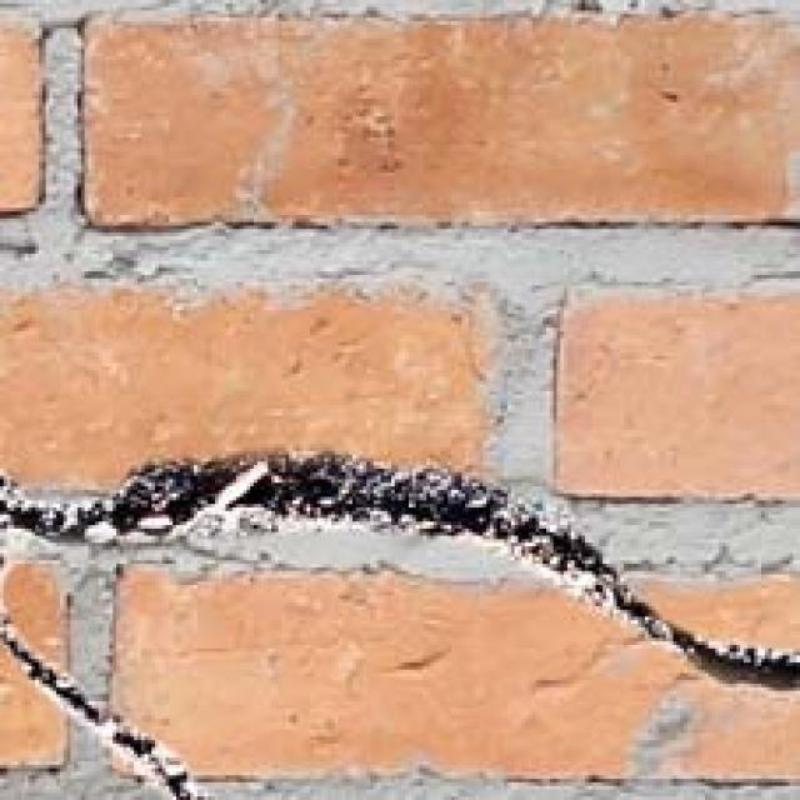pothole: (227, 455, 800, 687), (0, 615, 195, 800), (0, 461, 252, 540)
